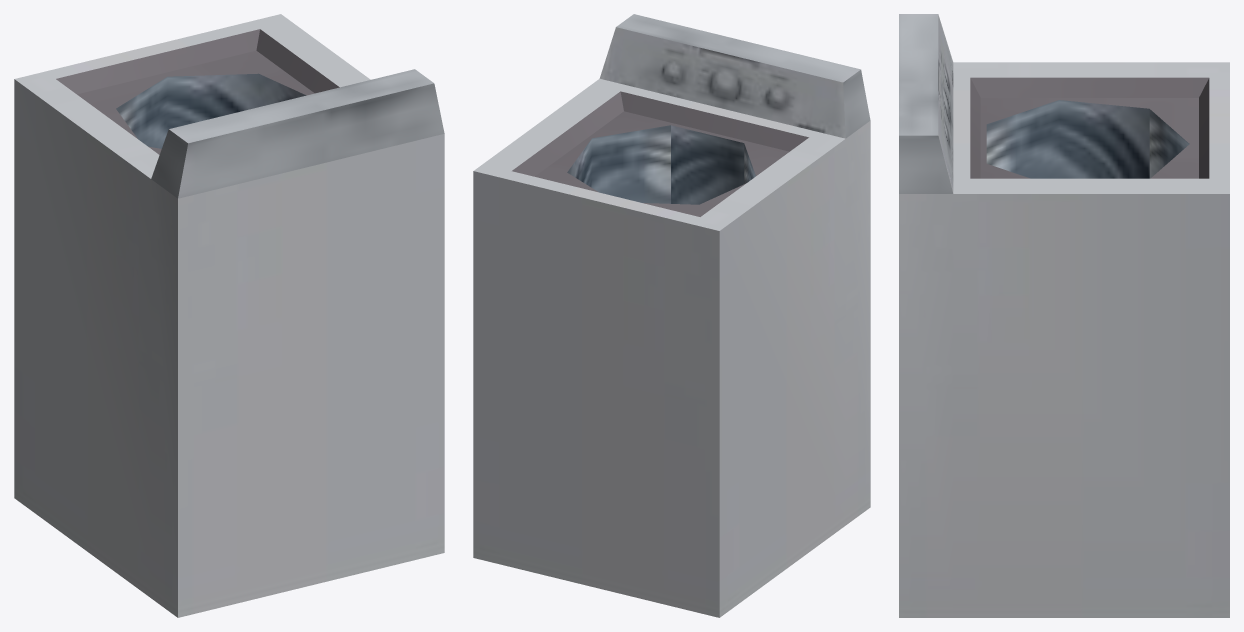
Rendered from Washing_machine_03.glb.
3 renders of one model, left to right at view 1: azimuth 30°, elevation 25°; view 2: azimuth 150°, elevation 25°; view 3: azimuth 270°, elevation 25°, orthographic. The views are drawn at different scales.
Visible parts, largest first — view 1: Washing_machine_03; view 2: Washing_machine_03; view 3: Washing_machine_03.
Part boxes in pixels (x1,y1,x2,y2): Washing_machine_03: [14, 14, 444, 617]; Washing_machine_03: [473, 14, 870, 617]; Washing_machine_03: [899, 14, 1229, 617].
Bounding box in the file's own units: 0.7947 × 1.34 × 0.8445.
Materials: 1 (1 with a texture image).
